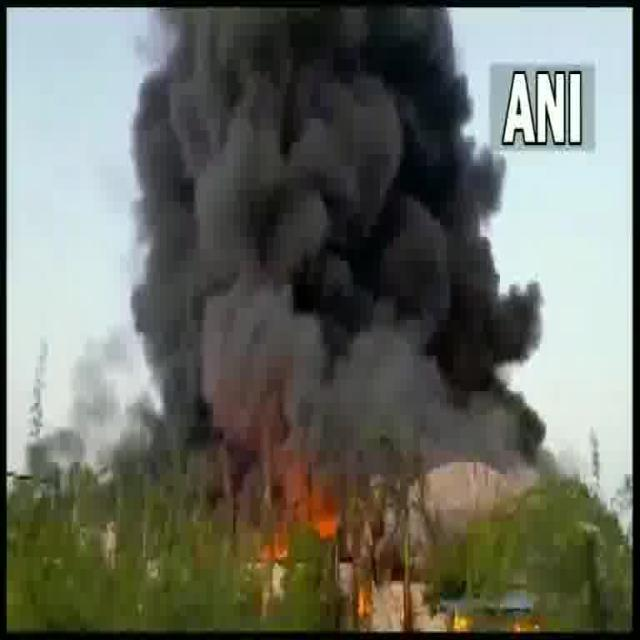Smoke: (162, 16, 468, 460)
